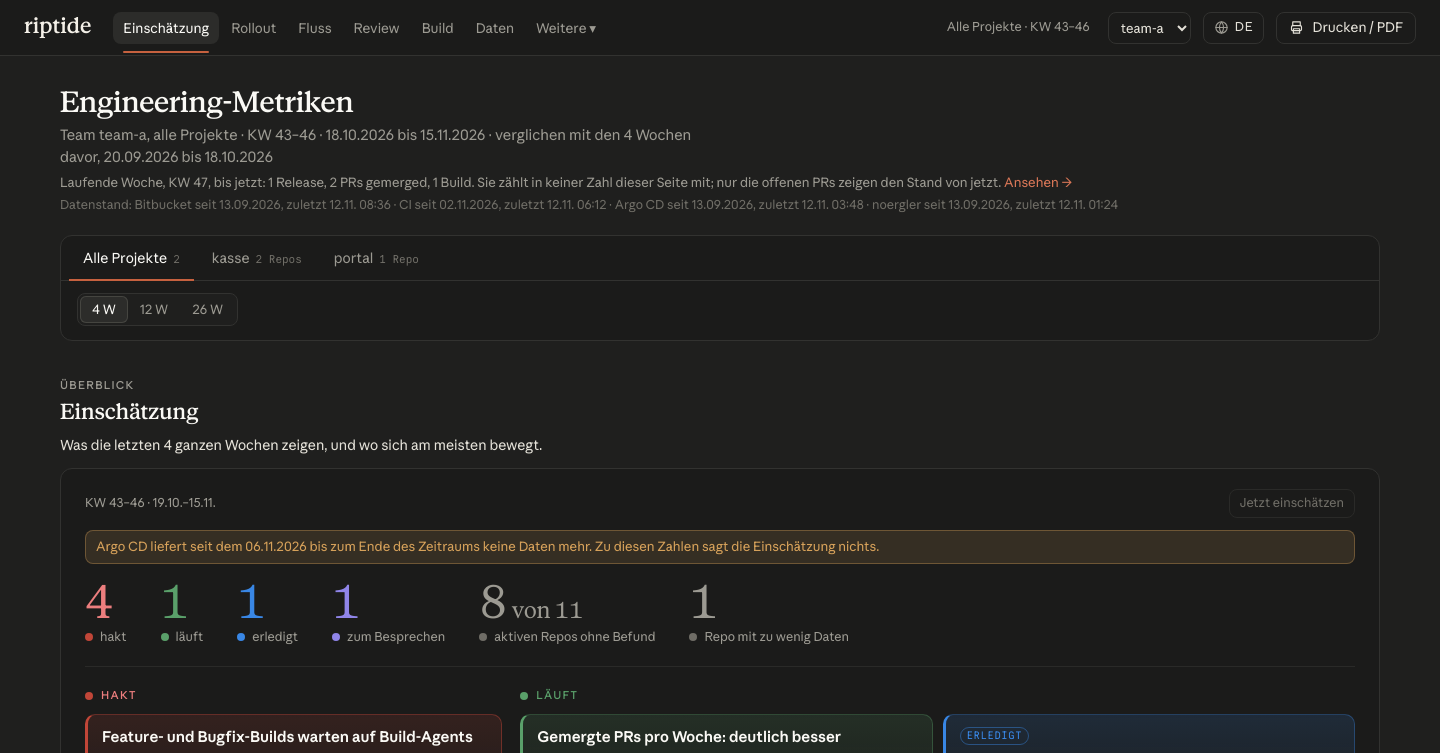
Test: App › drops an ask's answer for a view left meanwhile
Click the button "Jetzt einschätzen" at (1292, 504), box [1229,489,1355,518]
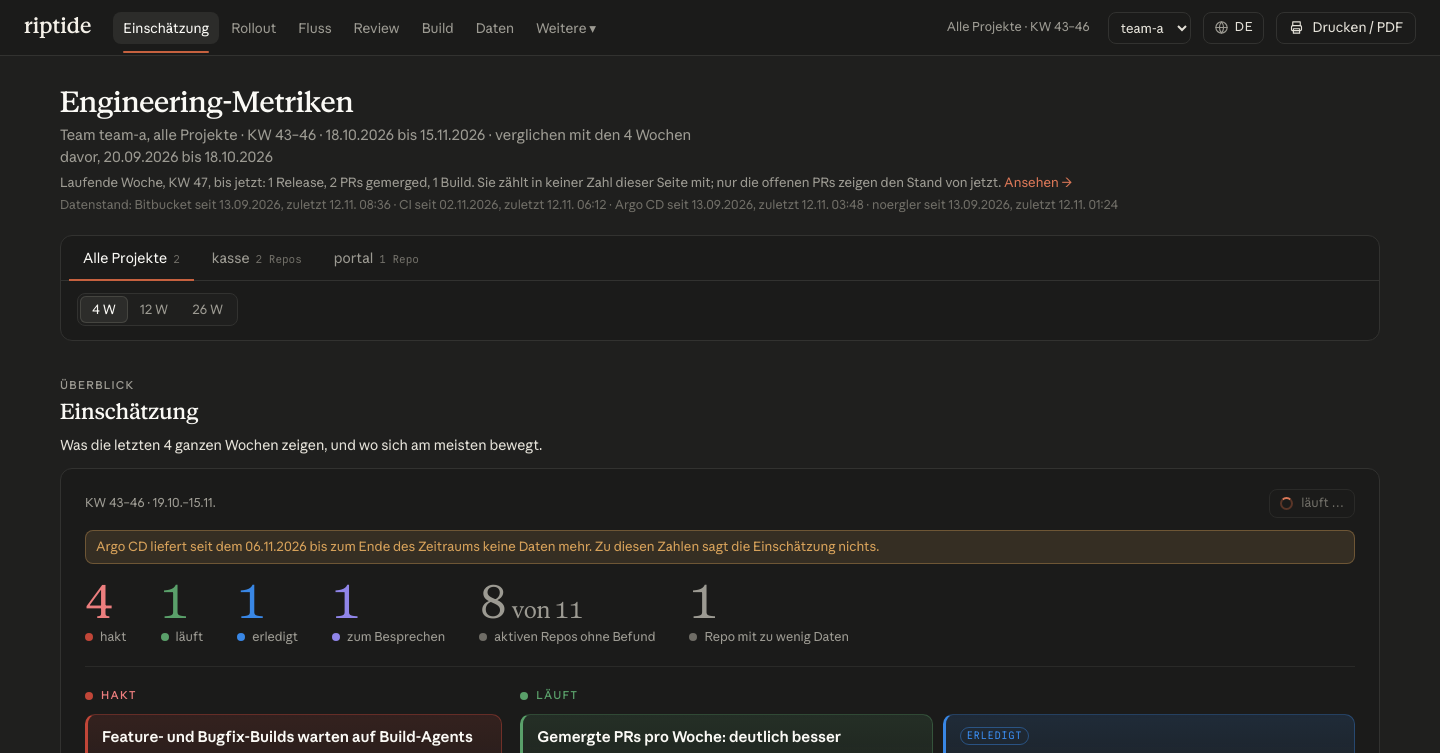
Click the button "12 W" at (154, 310), box [128,296,180,323]
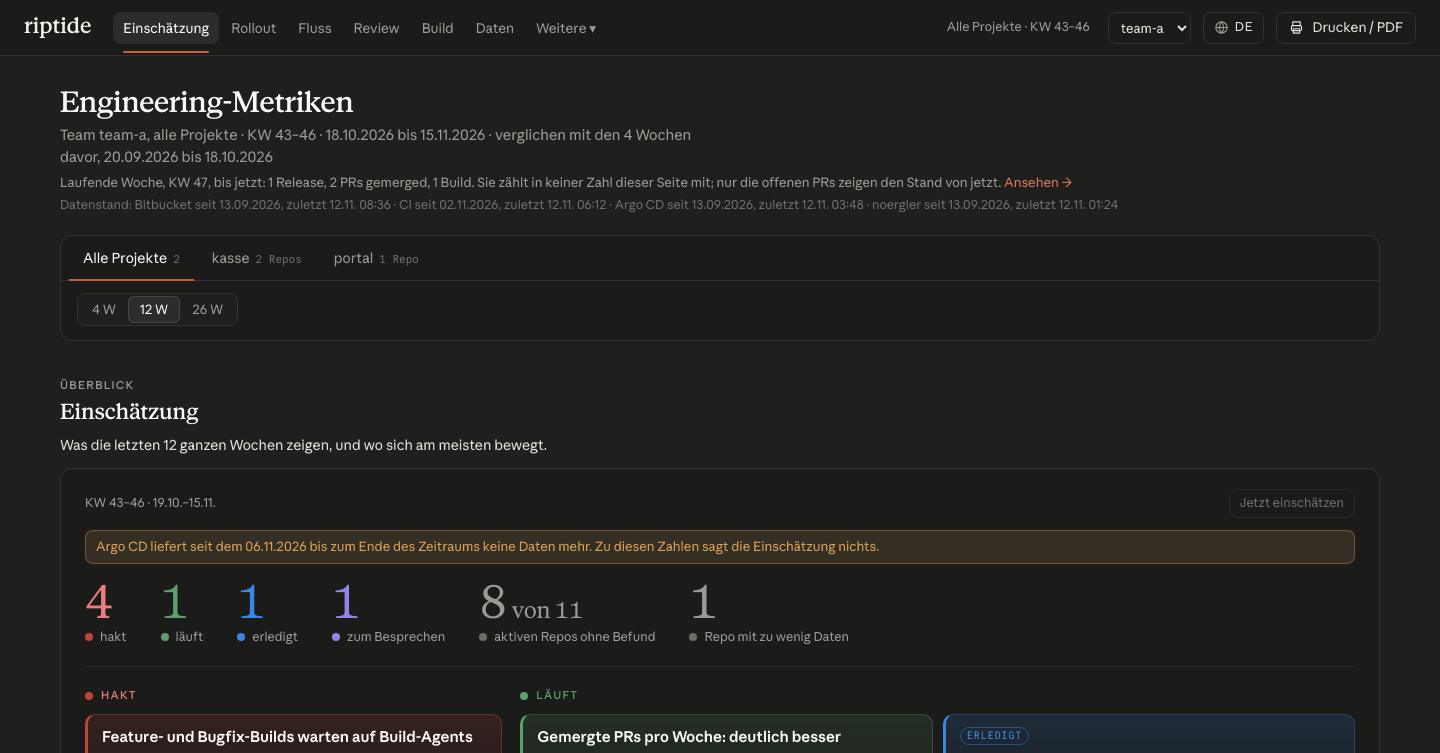
Check: the button "Jetzt einschätzen" is enabled, box [1229,489,1355,518]
